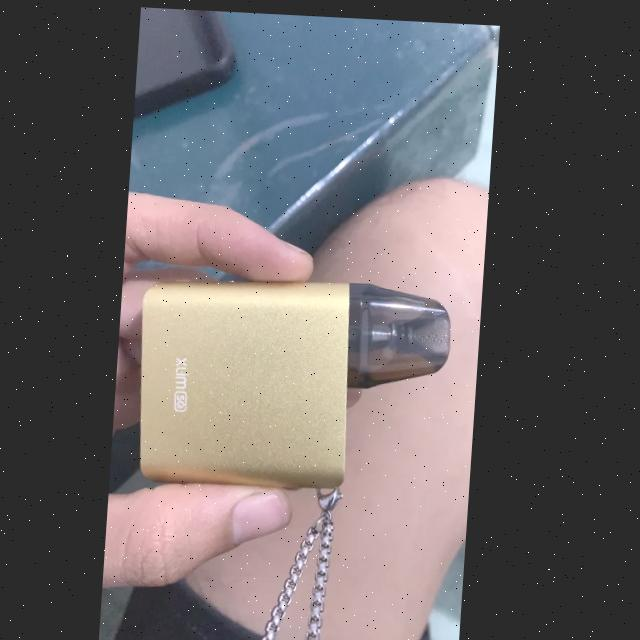vape: (138, 269, 458, 493)
